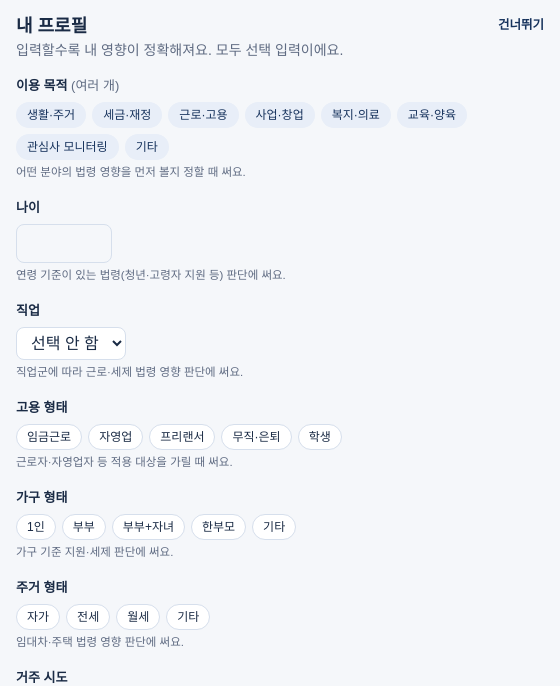
Scenario: ProfileScreen › 입력 도중 깨진 나이(badInput)는 저장 전에 바로 알린다
In the number field labelled "나이": (64,244) [16,224,112,263], type "3"
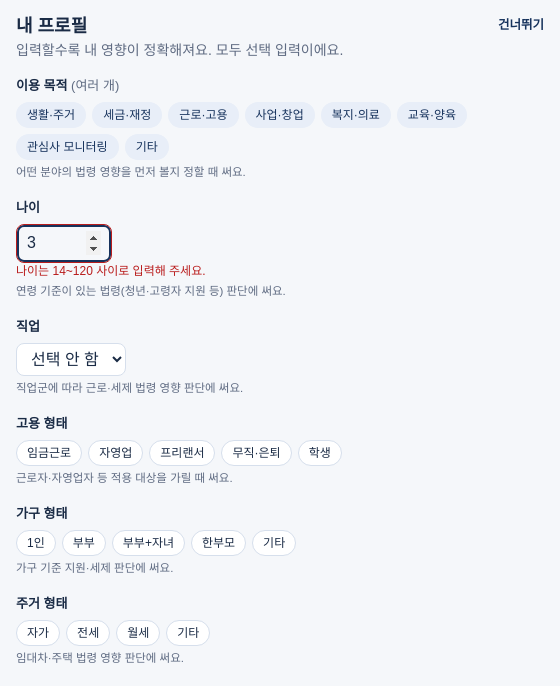
Result: the text "나이는 14~120 사이로 입력해 주세요." is shown at [16,264,206,278]
